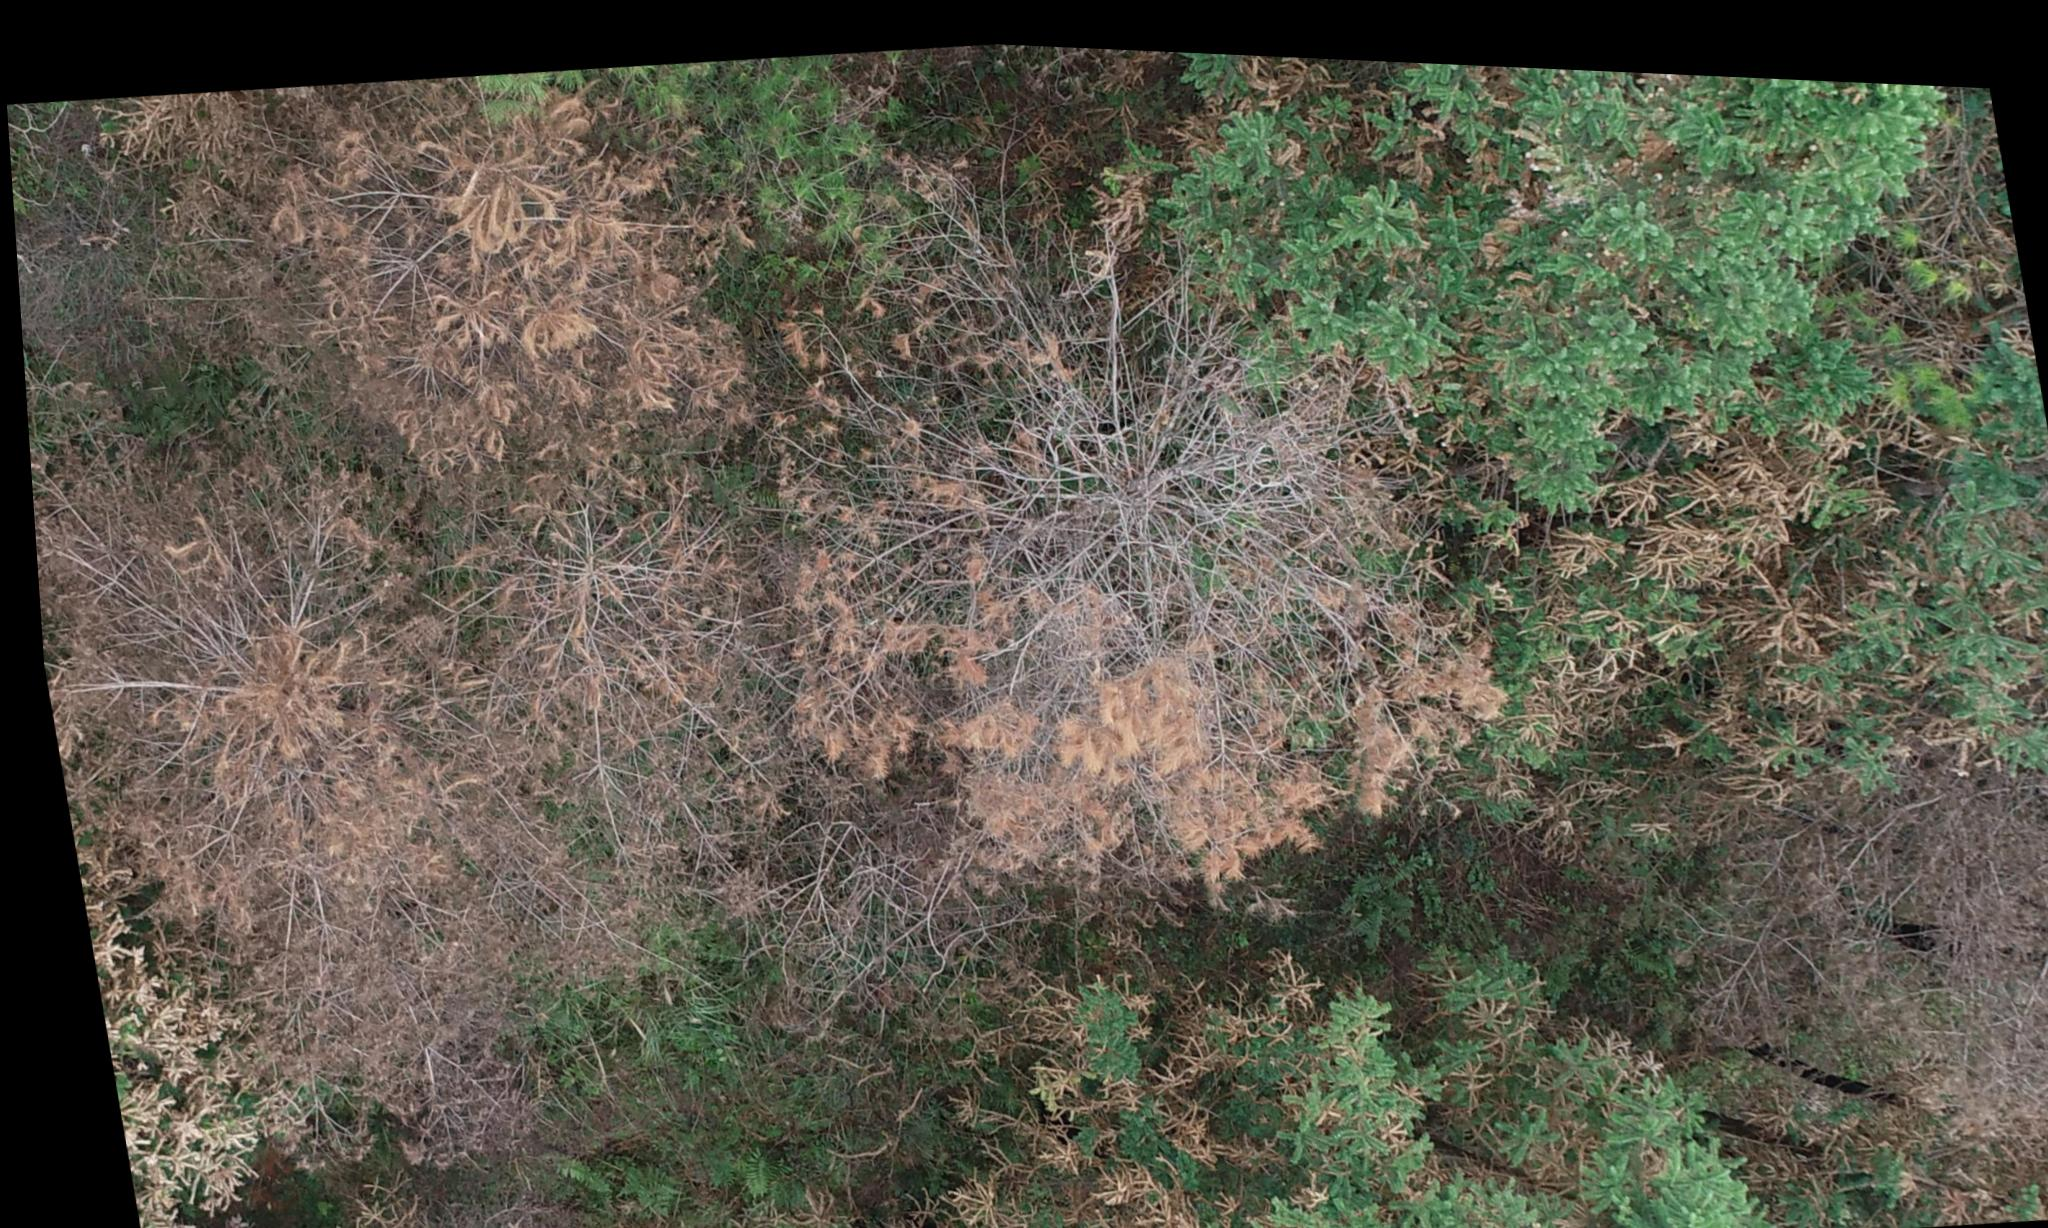dead: (25, 477, 807, 1164)
heavy: (47, 35, 751, 551)
light: (715, 83, 1590, 944), (864, 879, 1779, 1228)
